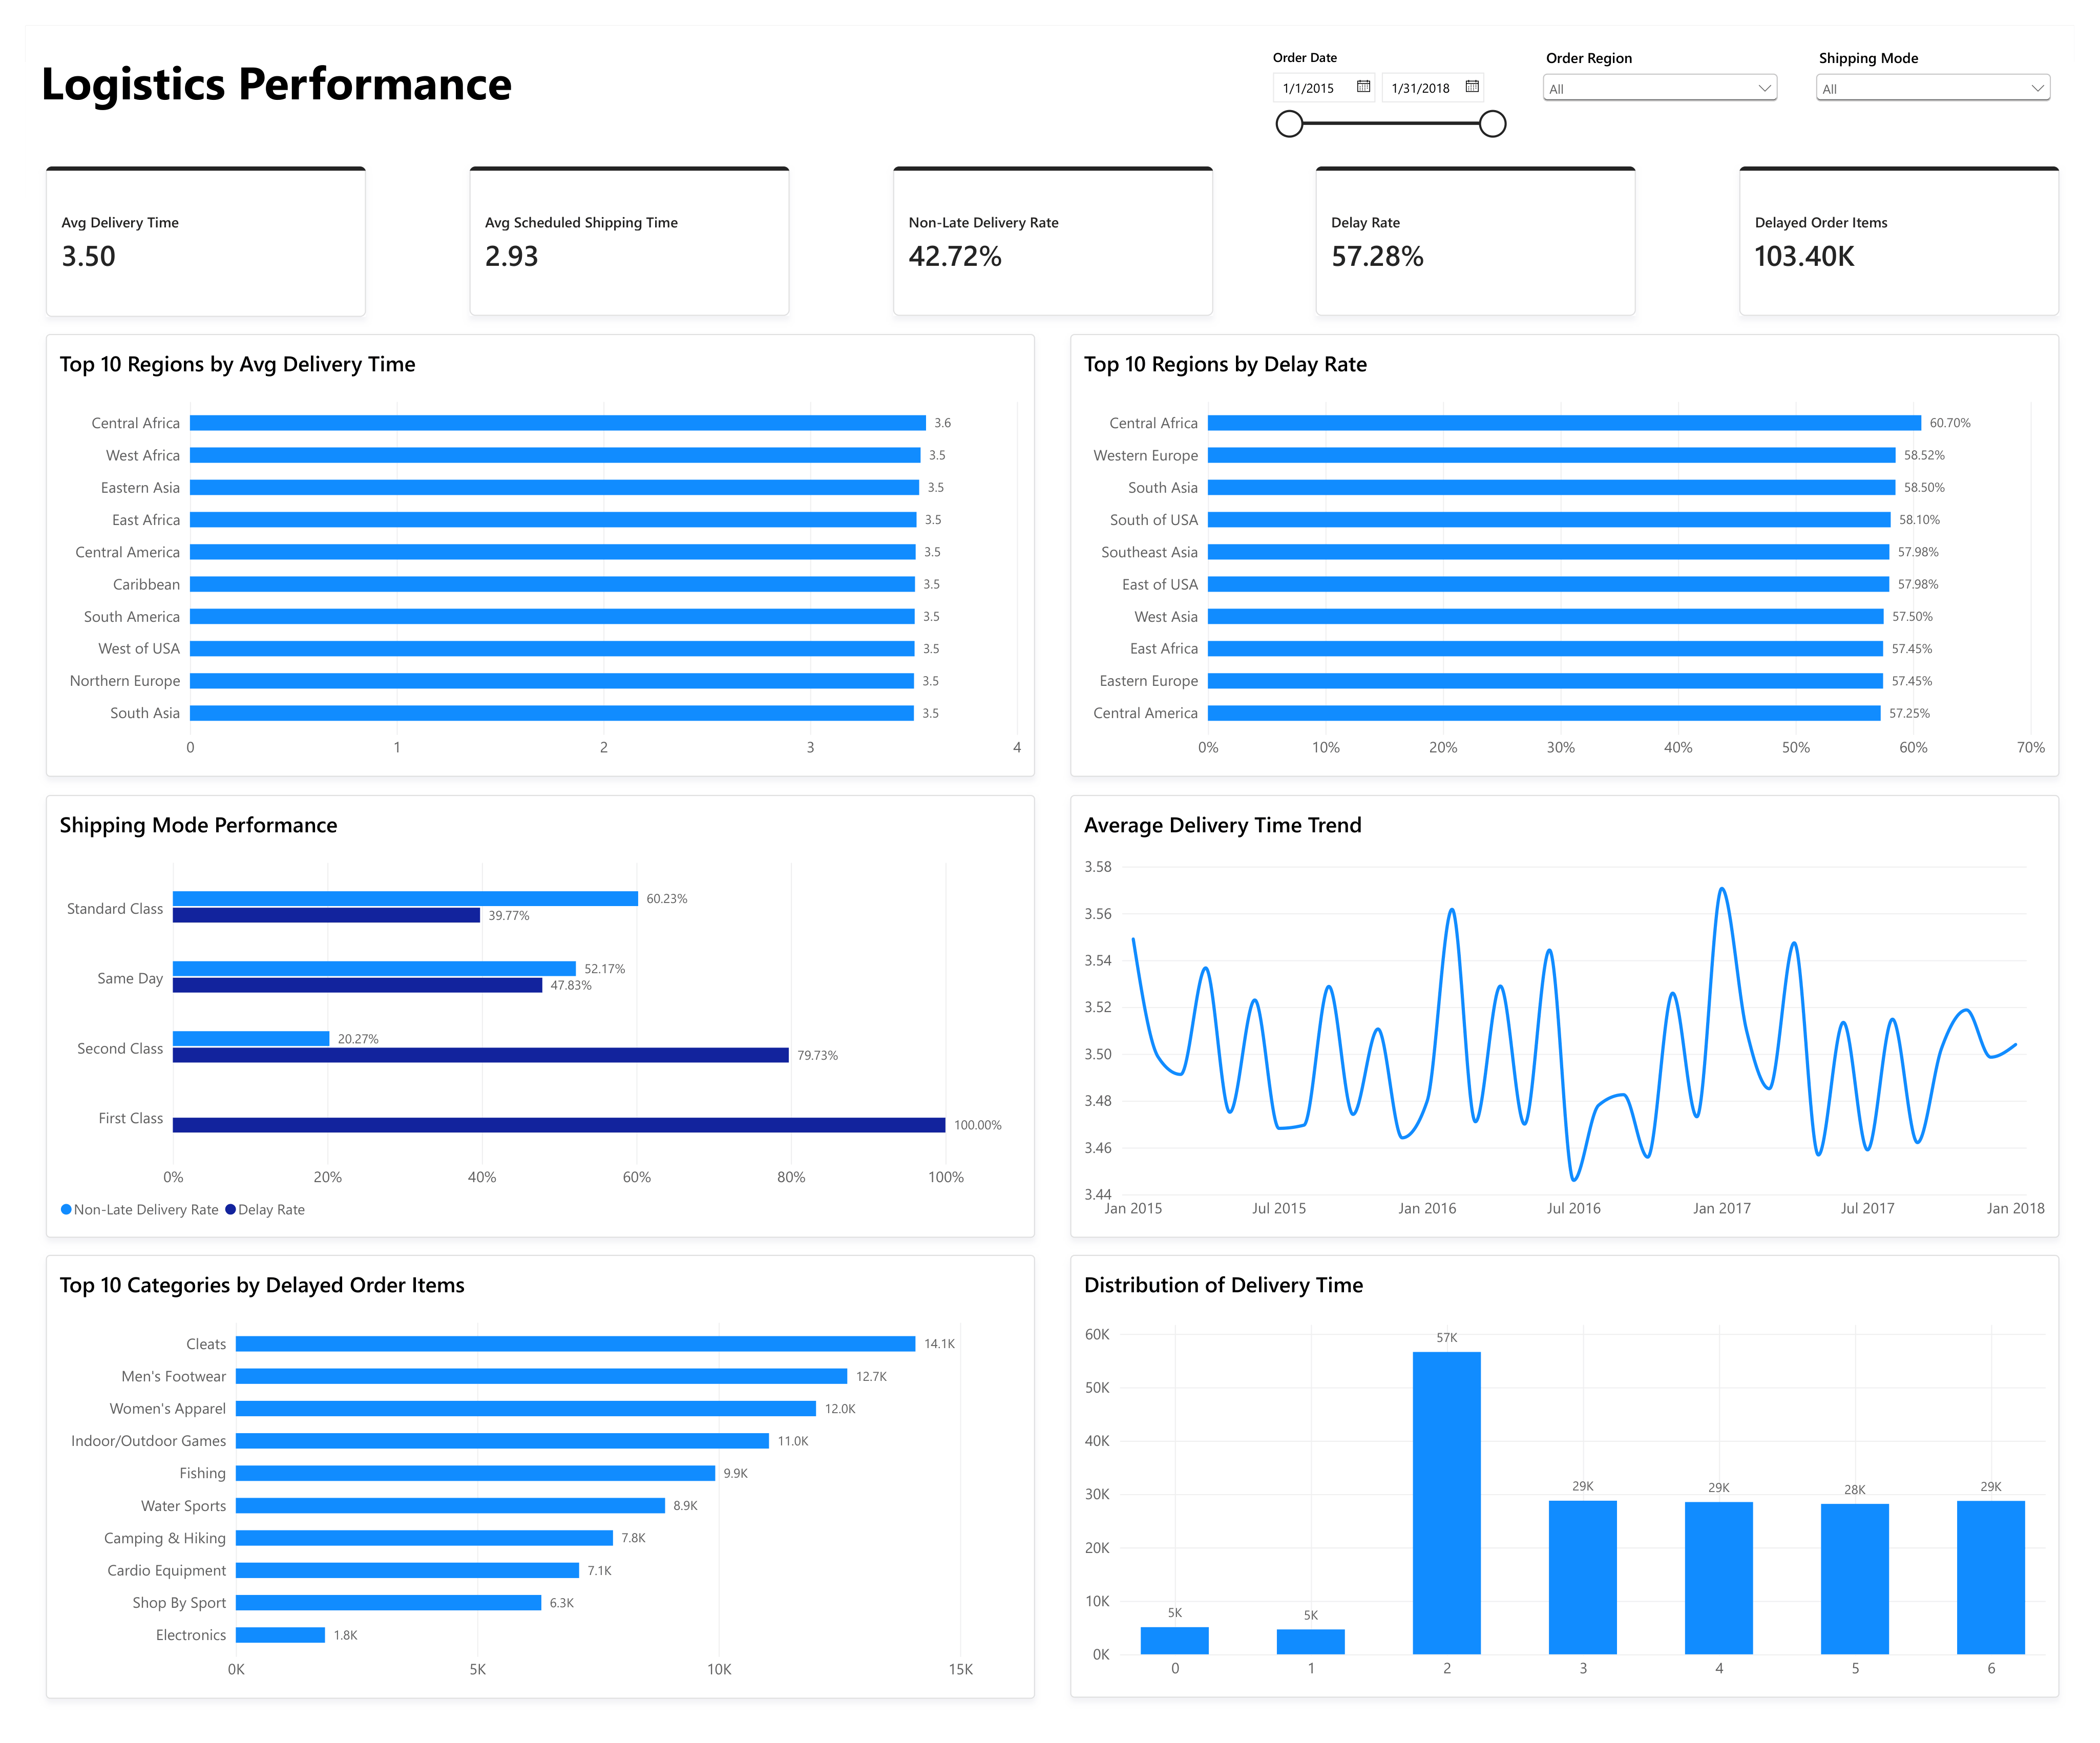

This screenshot's page, from the dashboard's own definition file:
{"tool":"powerbi","page":{"name":"Logistics Performance","canvas":[1920,1585],"ordinal":1},"visuals":[{"type":"cardVisual","fields":{"Data":["cleaned_supply_chain.Average Delivery Time"]},"box":[19.5,131.9,300,140.8],"z":0},{"type":"textbox","box":[14.1,23.5,1886.4,82.1],"z":1000},{"type":"cardVisual","fields":{"Data":["cleaned_supply_chain.Average Scheduled Shipping Time"]},"box":[416,131.9,300,140],"z":2000},{"type":"cardVisual","fields":{"Data":["cleaned_supply_chain.On-Time Delivery Rate"]},"box":[812.5,131.9,300,140],"z":3000},{"type":"cardVisual","fields":{"Data":["cleaned_supply_chain.Delay Rate"]},"box":[1209,131.9,300,140],"z":4000},{"type":"cardVisual","fields":{"Data":["cleaned_supply_chain.Delayed Order Items"]},"box":[1605.5,131.9,300,140],"z":5000},{"type":"clusteredBarChart","title":"Top 10 Regions by Avg Delivery Time","fields":{"Y":["cleaned_supply_chain.Average Delivery Time"],"Category":["cleaned_supply_chain.order_region"]},"box":[19.5,289.1,926.8,415],"z":6000},{"type":"clusteredBarChart","title":"Top 10 Regions by Delay Rate","fields":{"Y":["cleaned_supply_chain.Delay Rate"],"Category":["cleaned_supply_chain.order_region"]},"box":[979.1,289.1,926.8,415],"z":7000},{"type":"clusteredBarChart","title":"Shipping Mode Performance","fields":{"Category":["cleaned_supply_chain.shipping_mode"],"Y":["cleaned_supply_chain.On-Time Delivery Rate","cleaned_supply_chain.Delay Rate"]},"box":[19.2,720.6,926.8,415.3],"z":8000},{"type":"lineChart","title":"Average Delivery Time Trend","fields":{"Category":["cleaned_supply_chain.order_date.Variation.Date Hierarchy.Year","cleaned_supply_chain.order_date.Variation.Date Hierarchy.Month"],"Y":["cleaned_supply_chain.Average Delivery Time"]},"box":[978.8,721.1,927,415],"z":9000},{"type":"clusteredBarChart","title":"Top 10 Categories by Delayed Order Items","fields":{"Category":["cleaned_supply_chain.category_name"],"Y":["cleaned_supply_chain.Delayed Order Items"]},"box":[19.5,1152.5,926.8,415.3],"z":10000},{"type":"clusteredColumnChart","title":"Distribution of Delivery Time","fields":{"Category":["cleaned_supply_chain.days_for_shipping_real (bins)"],"Y":["cleaned_supply_chain.Total Order Items"]},"box":[979.1,1152.1,927,415],"z":11000},{"type":"slicer","fields":{"Values":["cleaned_supply_chain.order_date"]},"box":[1161.4,21.1,229.9,84.5],"z":12000},{"type":"slicer","fields":{"Values":["cleaned_supply_chain.order_region"]},"box":[1417.1,21.1,229.9,84.5],"z":13000},{"type":"slicer","fields":{"Values":["cleaned_supply_chain.shipping_mode"]},"box":[1672.9,21.1,229.9,84.5],"z":14000}]}

Visuals, with their boxes on the page's 1920x1585 design canvas (x1, y1, x2, y2). These are canvas units, not pixel positions in the 2100x1743 screenshot, which may show the page scaled, cropped or inside an application window:
cardVisual - cleaned_supply_chain.Average Delivery Time: 20,132,320,273
textbox: 14,24,1900,106
cardVisual - cleaned_supply_chain.Average Scheduled Shipping Time: 416,132,716,272
cardVisual - cleaned_supply_chain.On-Time Delivery Rate: 812,132,1112,272
cardVisual - cleaned_supply_chain.Delay Rate: 1209,132,1509,272
cardVisual - cleaned_supply_chain.Delayed Order Items: 1606,132,1906,272
"Top 10 Regions by Avg Delivery Time" clusteredBarChart: 20,289,946,704
"Top 10 Regions by Delay Rate" clusteredBarChart: 979,289,1906,704
"Shipping Mode Performance" clusteredBarChart: 19,721,946,1136
"Average Delivery Time Trend" lineChart: 979,721,1906,1136
"Top 10 Categories by Delayed Order Items" clusteredBarChart: 20,1152,946,1568
"Distribution of Delivery Time" clusteredColumnChart: 979,1152,1906,1567
slicer - cleaned_supply_chain.order_date: 1161,21,1391,106
slicer - cleaned_supply_chain.order_region: 1417,21,1647,106
slicer - cleaned_supply_chain.shipping_mode: 1673,21,1903,106
